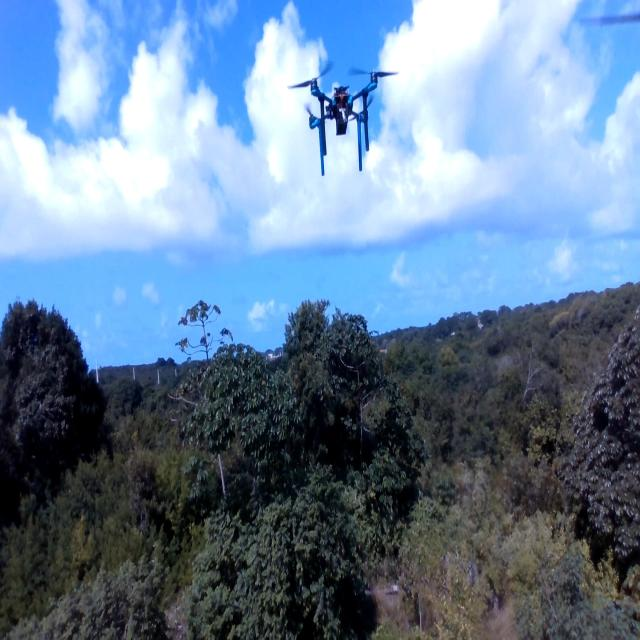-uav-: (283, 42, 402, 183)
